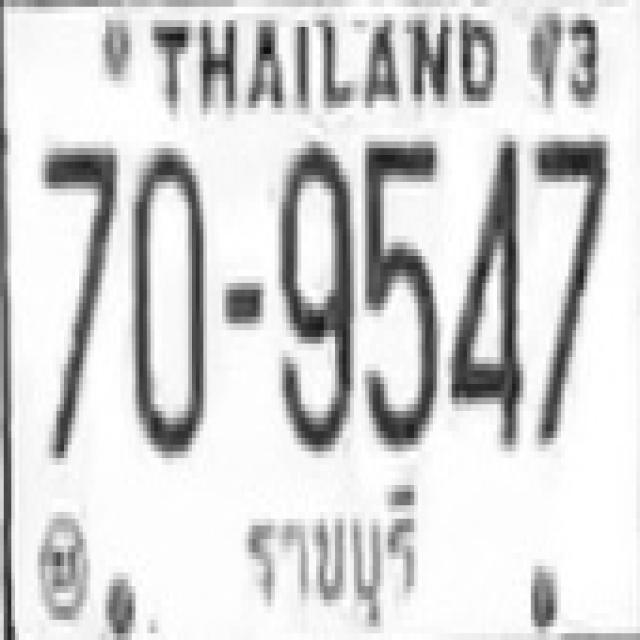0: (128, 142, 203, 452)
4: (448, 132, 520, 442)
5: (361, 134, 437, 444)
7: (38, 142, 116, 458), (531, 132, 606, 442)
9: (275, 134, 350, 444)
Ratchaburi: (238, 481, 431, 633)
